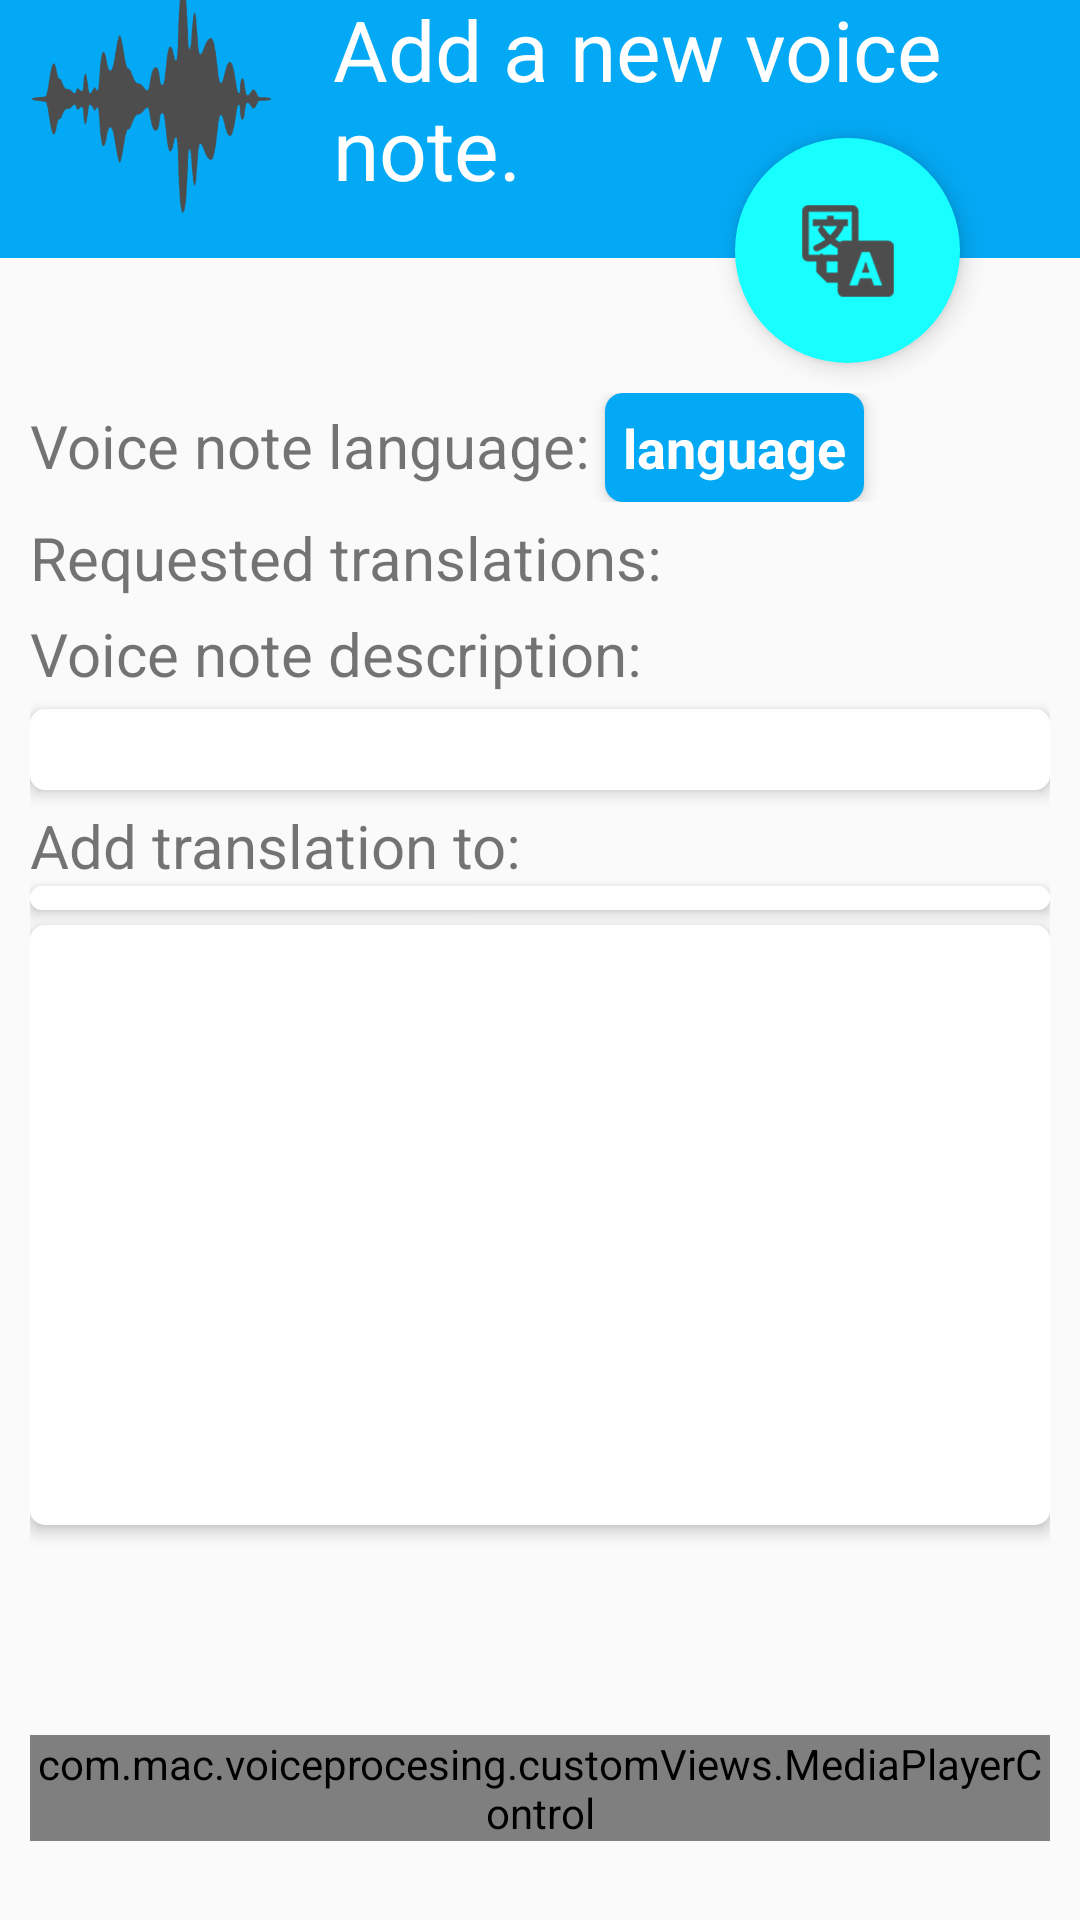

Icons on this 1080w x 1920h Android screen, each with the point to tap as [x,y]:
add translationg: [847,250]
audio wave: [151,106]
